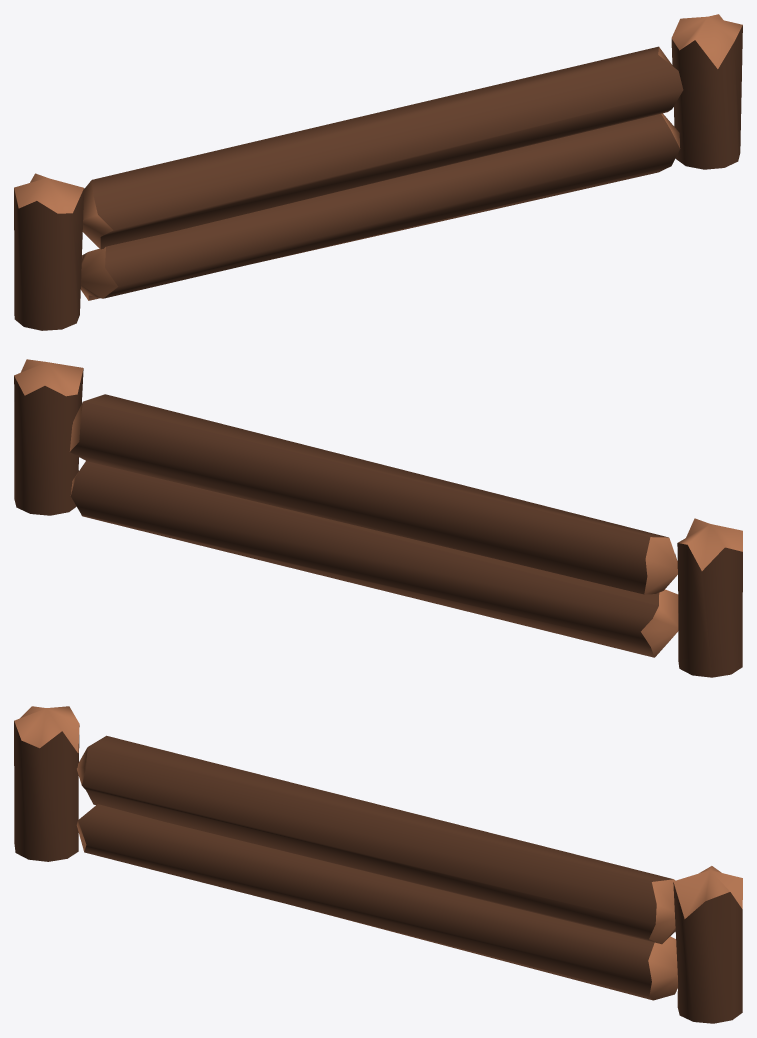
The model's file is wooden horizontal.fbx.
3 renders of one model, top to bottom at view 1: azimuth 30°, elevation 25°; view 2: azimuth 150°, elevation 25°; view 3: azimuth 330°, elevation 25°, orthographic.
Visible parts, largest first — view 1: wooden_horizontal; view 2: wooden_horizontal; view 3: wooden_horizontal.
Boxes of the visible parts, bbox=[...] form: wooden_horizontal: bbox=[14, 14, 742, 330]; wooden_horizontal: bbox=[14, 359, 742, 677]; wooden_horizontal: bbox=[14, 706, 742, 1023].
Bounding box in the file's own units: 14.23 × 2.64 × 1.26.
